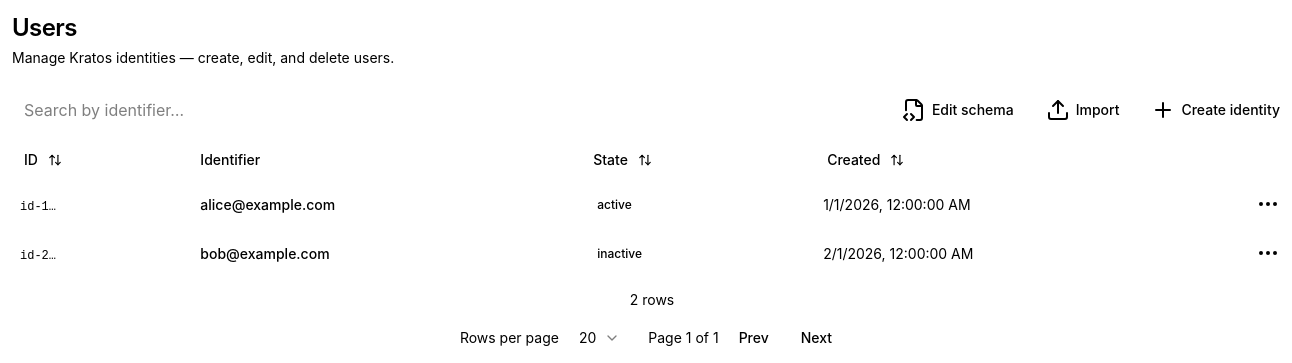
Test: Users list page (IDENT-01) › provides per-row view/edit/delete actions
expect the text "alice@example.com" is shown: met, box [200,196,335,212]
Open the first row's kebab menu.
Click the button named "open actions" in the row of "id-1" at [1268, 204], box [1252,188,1284,220]
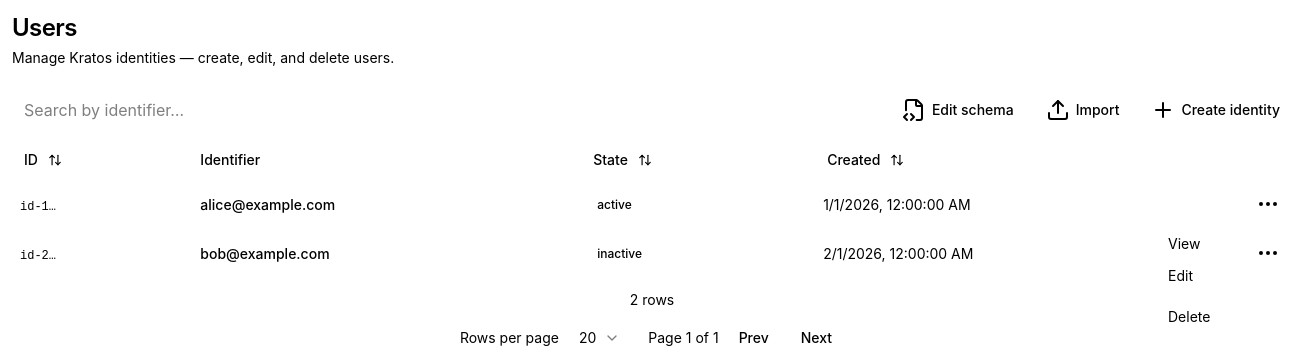
expect the menu item "View" is shown: met, box [1168,235,1200,252]
expect the menu item "Edit" is shown: met, box [1168,267,1193,284]
expect the menu item "Delete" is shown: met, box [1168,308,1210,325]
